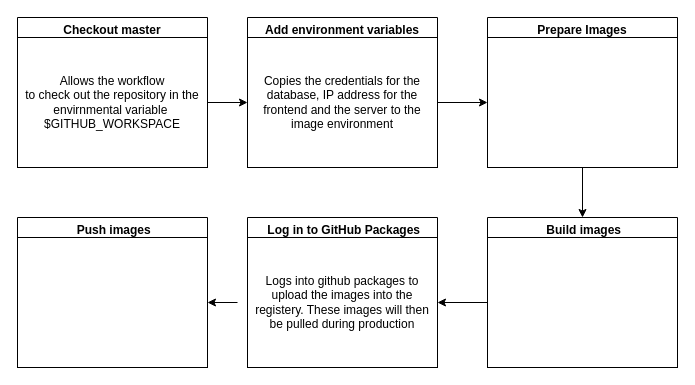
Image size: 695x385. Some labels were removed from this diagram. Here are the shapes that lost their labels. From the top down, the centre of each, then its label:
(582,102): Prepares all 4 images for building
(112,302): The images are tagged and pushed to the registry
(582,302): Builds the images according to the configuration set in docker-compose.ci.yml
